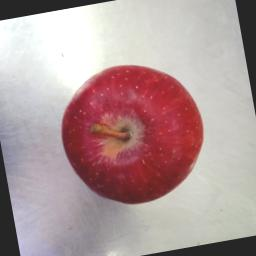Apple Ripe: (42, 45, 221, 222)
